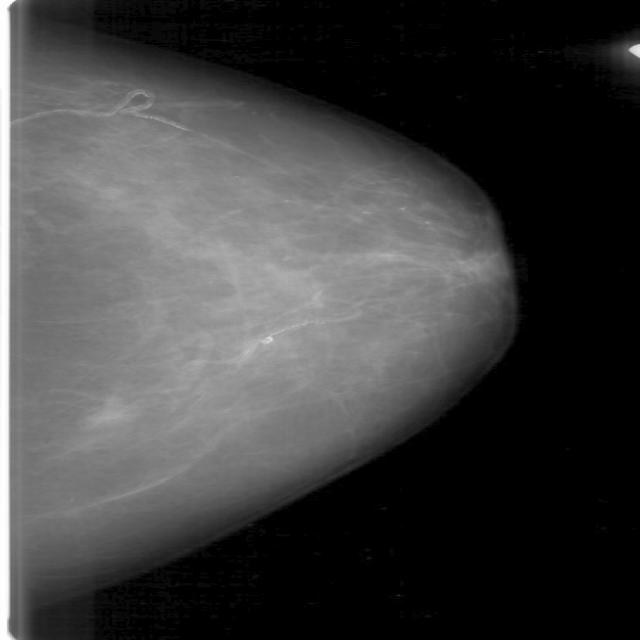tumour: (76, 395, 133, 427)
